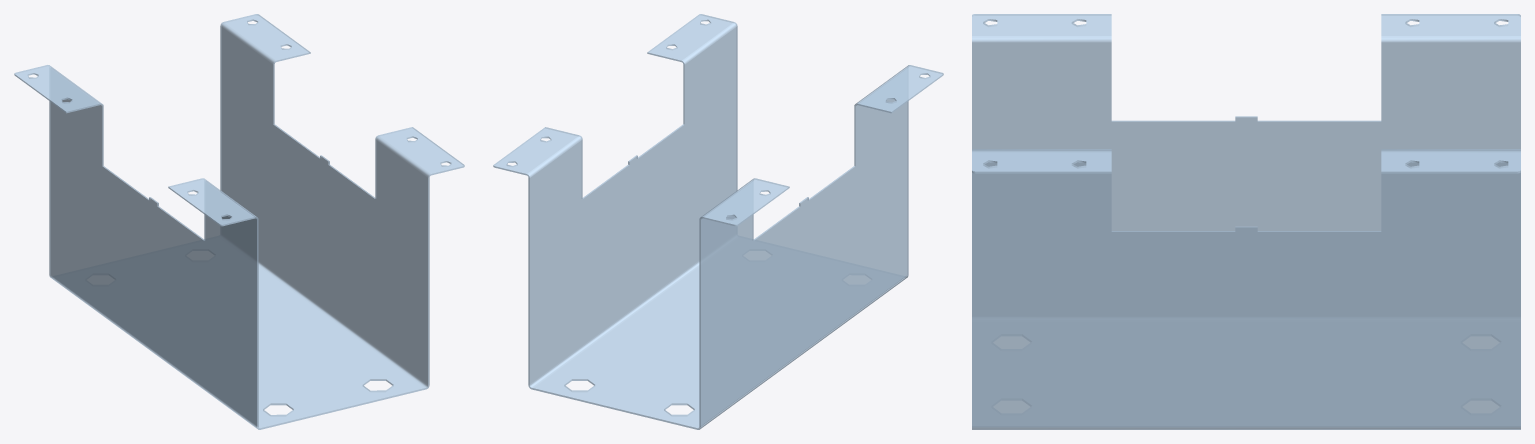
File: 2KSO342000.glb
3 renders of one model, left to right at view 1: azimuth 30°, elevation 25°; view 2: azimuth 150°, elevation 25°; view 3: azimuth 270°, elevation 25°, orthographic. The views are drawn at different scales.
Parts seen in each view (by area): view 1: 2; view 2: 2; view 3: 2.
Boxes of the visible parts, bbox=[...] form: 2: bbox=[14, 14, 464, 429]; 2: bbox=[493, 14, 943, 429]; 2: bbox=[972, 14, 1520, 429].
Size of the model in its own units: 0.1175 by 0.0985 by 0.1731.
